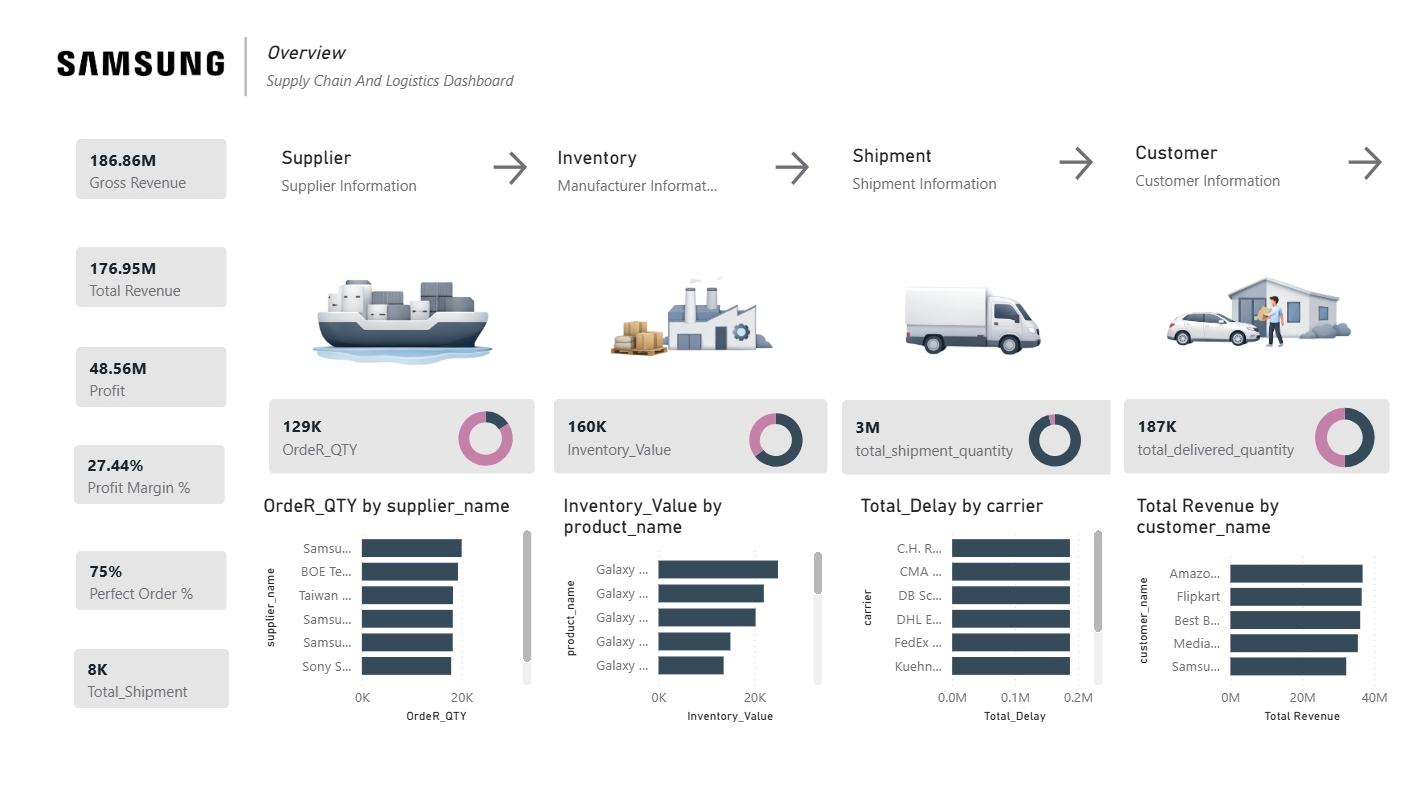

What the dashboard file says about the page in this screenshot:
{"tool":"powerbi","page":{"name":"Page 1","canvas":[1280,720],"ordinal":0},"visuals":[{"type":"shape","box":[258.7,135.2,240.2,212],"z":0},{"type":"shape","box":[513.6,135.2,240.2,212],"z":1000},{"type":"shape","box":[767.4,135.2,240.2,212],"z":2000},{"type":"shape","box":[1025.2,135.2,240.2,212],"z":3000},{"type":"image","box":[224.7,241.2,300.5,104.1],"z":4000},{"type":"image","box":[482.4,241.2,301.5,104.1],"z":5000},{"type":"image","box":[737.3,250.9,301.5,88.5],"z":6000},{"type":"image","box":[1025.2,250.9,250,78.8],"z":7000},{"type":"actionButton","box":[455.2,144,100.2,39.9],"z":8000},{"type":"actionButton","box":[1220.7,140.1,54.5,39.9],"z":9000},{"type":"actionButton","box":[961.9,140.1,91.4,39.9],"z":10000},{"type":"actionButton","box":[707.1,144,92.4,39.9],"z":11000},{"type":"textbox","title":"Supplier","box":[265.5,144,153.7,45.7],"z":12000},{"type":"textbox","title":"Customer","box":[1031,140.1,153.7,45.7],"z":13000},{"type":"textbox","title":"Shipment","box":[777.1,142,153.7,43.8],"z":14000},{"type":"textbox","title":"Inventory","box":[513.6,144,153.7,46.7],"z":15000},{"type":"textbox","title":"Overview","box":[252.3,50,237.2,50],"z":16000},{"type":"shape","box":[181.4,46.5,114,53.5],"z":17000},{"type":"image","box":[58.1,39.5,166.3,60.5],"z":18000},{"type":"cardVisual","fields":{"Data":["MeasureTable.Total_Revenue"]},"box":[69.9,217.6,169.3,88],"z":19000},{"type":"cardVisual","fields":{"Data":["MeasureTable.Profit margin %"]},"box":[68.1,394.9,169.3,87.8],"z":20000},{"type":"cardVisual","fields":{"Data":["MeasureTable.Total_Shipment"]},"box":[68.1,577.6,173.7,87.8],"z":21000},{"type":"cardVisual","fields":{"Data":["MeasureTable.Perfect Order"]},"box":[69.9,489.9,169.3,87.8],"z":22000},{"type":"cardVisual","fields":{"Data":["MeasureTable.Profit"]},"box":[69.9,307.2,169.3,88],"z":23000},{"type":"cardVisual","fields":{"Data":["Sum(fact_sales.gross_revenue)"]},"box":[69.9,120.9,169.3,88],"z":24000},{"type":"cardVisual","fields":{"Data":["MeasureTable.OrdeR_QTY"]},"box":[241.9,351.2,282.6,101.2],"z":25000},{"type":"cardVisual","fields":{"Data":["MeasureTable.Inventory_Value"]},"box":[497.7,353.5,279.1,101.2],"z":26000},{"type":"cardVisual","fields":{"Data":["MeasureTable.OrdeR_QTY"]},"box":[243,353.5,272.1,101.2],"z":27000},{"type":"cardVisual","fields":{"Data":["MeasureTable.total_shipment_quantity"]},"box":[755.8,354.7,282.6,101.2],"z":28000},{"type":"cardVisual","fields":{"Data":["MeasureTable.total_delivered_quantity"]},"box":[1008.1,353.5,272.1,101.2],"z":29000},{"type":"clusteredBarChart","fields":{"Y":["MeasureTable.OrdeR_QTY"],"Category":["dim_supplier.supplier_name"]},"box":[250,455.8,250,209.3],"z":30000},{"type":"clusteredBarChart","fields":{"Category":["dim_product.product_name"],"Y":["MeasureTable.Inventory_Value"]},"box":[518.6,455.8,241.9,209.3],"z":31000},{"type":"clusteredBarChart","fields":{"Y":["MeasureTable.Total_Delay"],"Category":["fact_shipment.carrier"]},"box":[784.9,455.8,226.7,209.3],"z":32000},{"type":"clusteredBarChart","fields":{"Y":["MeasureTable.Total Revenue"],"Category":["dim_customer.customer_name"]},"box":[1031.4,455.8,234.9,209.3],"z":33000},{"type":"donutChart","fields":{"Y":["MeasureTable.Inventory_Value","MeasureTable.Safety stock"]},"box":[667.4,372.1,93,69.8],"z":34000},{"type":"donutChart","fields":{"Y":["MeasureTable.Total_Delay","MeasureTable.Total_Shipment"]},"box":[915.1,373.3,96.5,68.6],"z":35000},{"type":"donutChart","fields":{"Y":["MeasureTable.total_delivered_quantity","MeasureTable.Total_Delay"]},"box":[1184.9,354.7,76.7,101.2],"z":36000},{"type":"donutChart","fields":{"Y":["MeasureTable.defect rate","MeasureTable.OrdeR_QTY"]},"box":[418.6,355.8,70.9,101.2],"z":37000}]}

Visuals, with their boxes in screenshot pixels (x1, y1, x2, y2), scaled from the page's 1280x720 canvas onto the 1409x785 screenshot:
shape: (285, 147, 549, 379)
shape: (565, 147, 830, 379)
shape: (845, 147, 1109, 379)
shape: (1129, 147, 1393, 379)
image: (247, 263, 578, 376)
image: (531, 263, 863, 376)
image: (812, 274, 1143, 370)
image: (1129, 274, 1404, 359)
actionButton: (501, 157, 611, 201)
actionButton: (1344, 153, 1404, 196)
actionButton: (1059, 153, 1159, 196)
actionButton: (778, 157, 880, 201)
"Supplier" textbox: (292, 157, 461, 207)
"Customer" textbox: (1135, 153, 1304, 203)
"Shipment" textbox: (855, 155, 1025, 203)
"Inventory" textbox: (565, 157, 735, 208)
"Overview" textbox: (278, 55, 539, 109)
shape: (200, 51, 325, 109)
image: (64, 43, 247, 109)
cardVisual - MeasureTable.Total_Revenue: (77, 237, 263, 333)
cardVisual - MeasureTable.Profit margin %: (75, 431, 261, 526)
cardVisual - MeasureTable.Total_Shipment: (75, 630, 266, 725)
cardVisual - MeasureTable.Perfect Order: (77, 534, 263, 630)
cardVisual - MeasureTable.Profit: (77, 335, 263, 431)
cardVisual - Sum(fact_sales.gross_revenue): (77, 132, 263, 228)
cardVisual - MeasureTable.OrdeR_QTY: (266, 383, 577, 493)
cardVisual - MeasureTable.Inventory_Value: (548, 385, 855, 496)
cardVisual - MeasureTable.OrdeR_QTY: (267, 385, 567, 496)
cardVisual - MeasureTable.total_shipment_quantity: (832, 387, 1143, 497)
cardVisual - MeasureTable.total_delivered_quantity: (1110, 385, 1408, 496)
clusteredBarChart - MeasureTable.OrdeR_QTY x dim_supplier.supplier_name: (275, 497, 550, 725)
clusteredBarChart - dim_product.product_name x MeasureTable.Inventory_Value: (571, 497, 837, 725)
clusteredBarChart - MeasureTable.Total_Delay x fact_shipment.carrier: (864, 497, 1114, 725)
clusteredBarChart - MeasureTable.Total Revenue x dim_customer.customer_name: (1135, 497, 1394, 725)
donutChart - MeasureTable.Inventory_Value x MeasureTable.Safety stock: (735, 406, 837, 482)
donutChart - MeasureTable.Total_Delay x MeasureTable.Total_Shipment: (1007, 407, 1114, 482)
donutChart - MeasureTable.total_delivered_quantity x MeasureTable.Total_Delay: (1304, 387, 1389, 497)
donutChart - MeasureTable.defect rate x MeasureTable.OrdeR_QTY: (461, 388, 539, 498)
